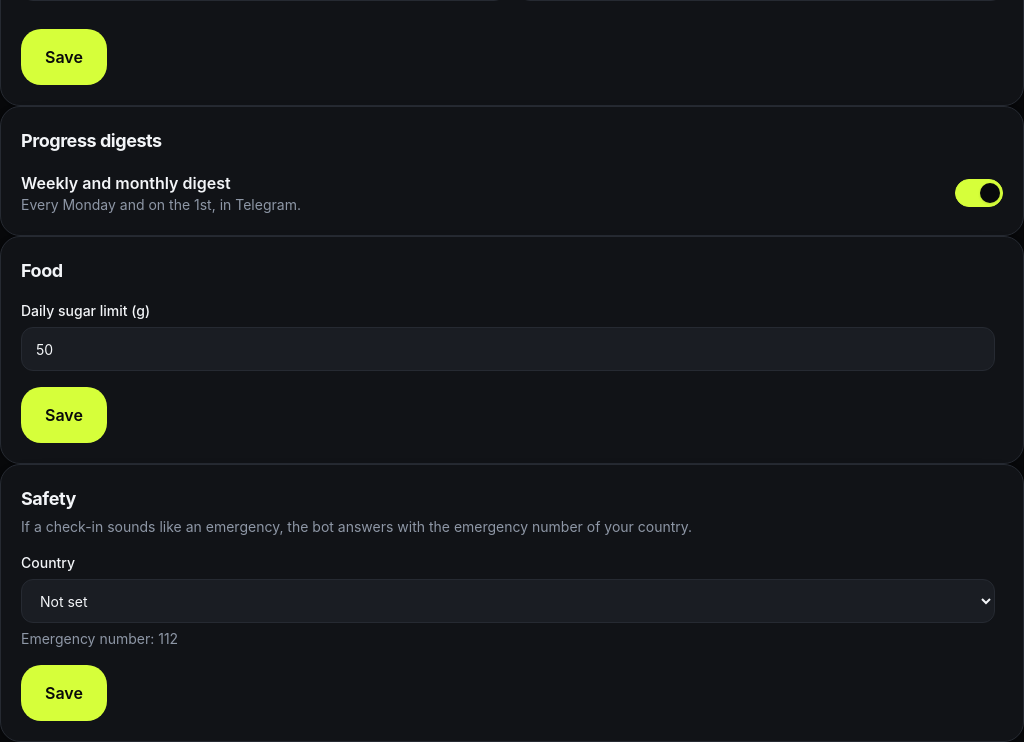
Coach & reminders › sends the chosen country and shows the emergency number
(page scrolled)
Expected: the text "Emergency number: 112" is shown, [21,630,178,647]
Select "US" in the dropdown labelled "Country" at (508, 601), box [21,579,995,623]
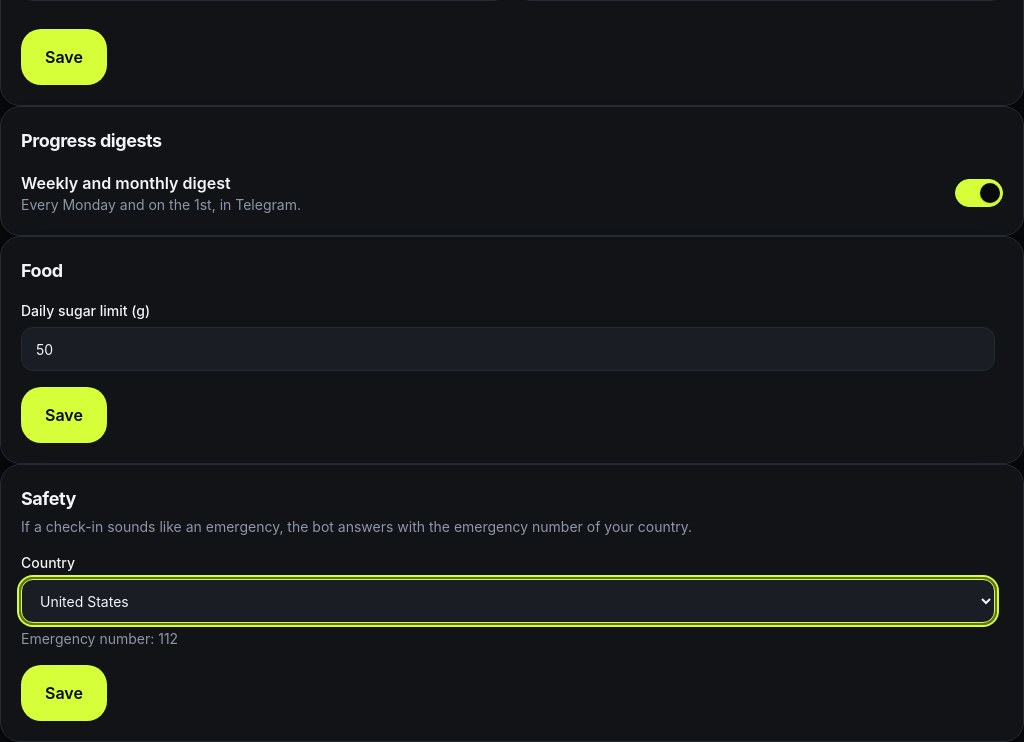
Click the button "Save" below "Emergency number: 112".
click(64, 693)  # box [21,665,107,721]
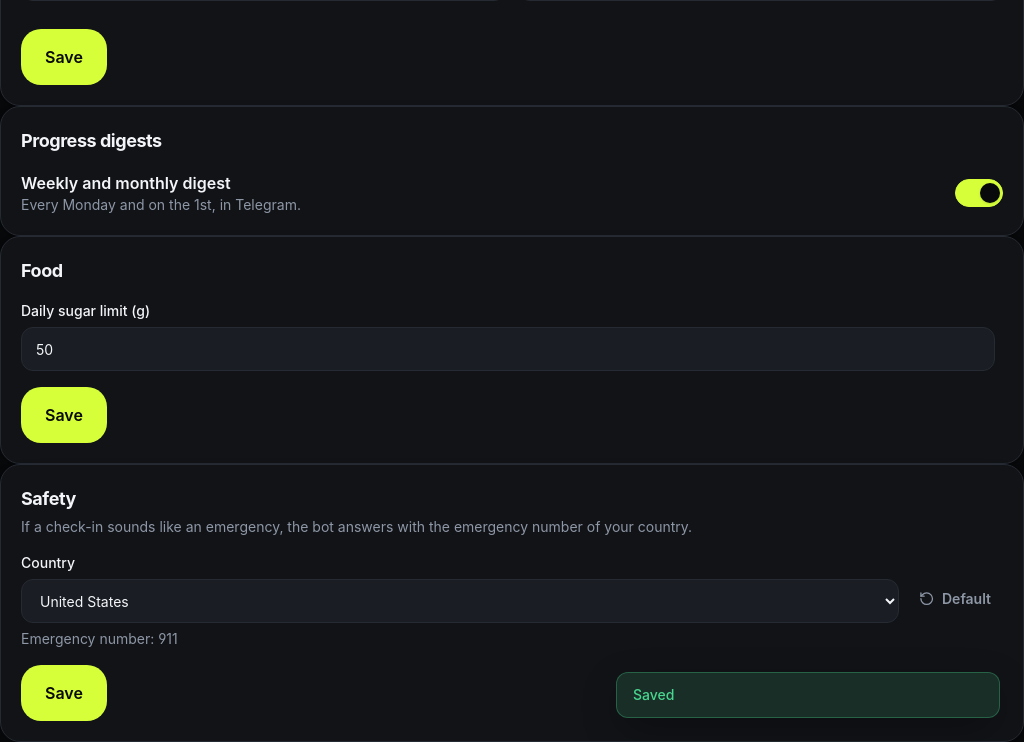
Now the text "Emergency number: 911" is shown, box [21,630,178,647]
